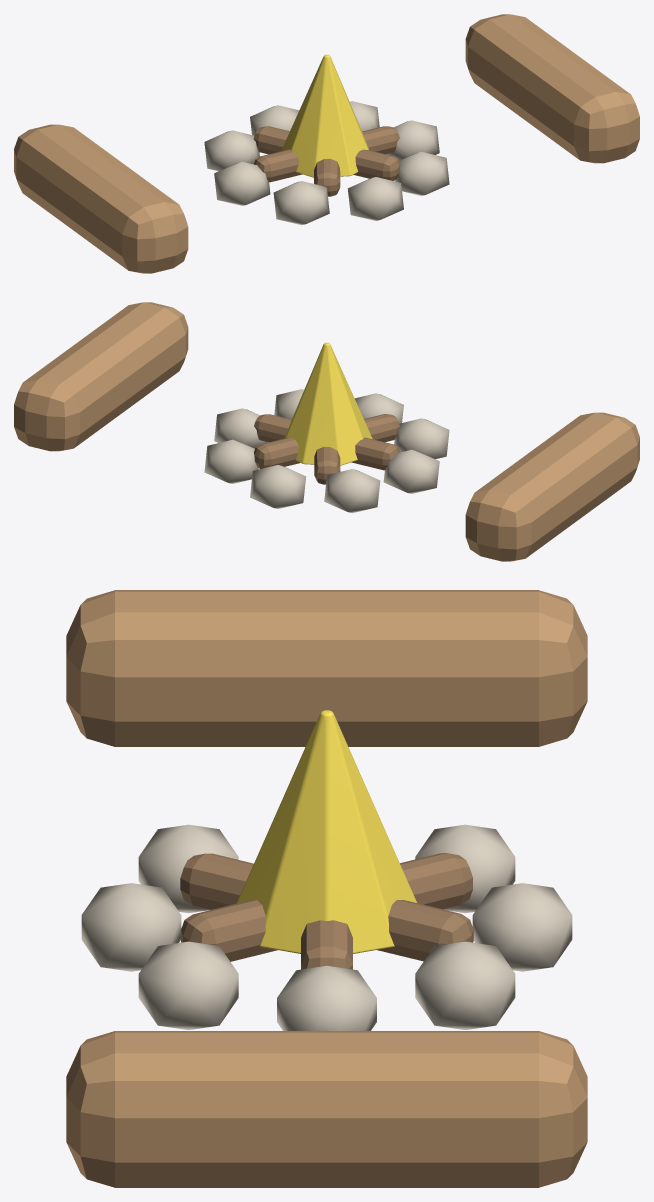
The model's file is campfire.fbx.
3 views of the same model, one above another, from view 1: azimuth 30°, elevation 25°; view 2: azimuth 150°, elevation 25°; view 3: azimuth 270°, elevation 25° (orthographic). The views are drawn at different scales.
Parts seen in each view (by area): view 1: Visual; view 2: Visual; view 3: Visual.
Boxes of the visible parts, bbox=[...] form: Visual: bbox=[14, 14, 639, 273]; Visual: bbox=[14, 302, 639, 561]; Visual: bbox=[66, 590, 587, 1187].
Size of the model in its own units: 365 by 88 by 160.
